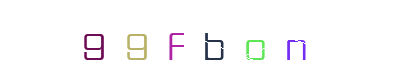9: (103, 0, 183, 80), (112, 0, 192, 80)
B: (165, 0, 245, 80)
F: (115, 0, 195, 80)
N: (254, 0, 334, 80)
O: (214, 0, 294, 80)
